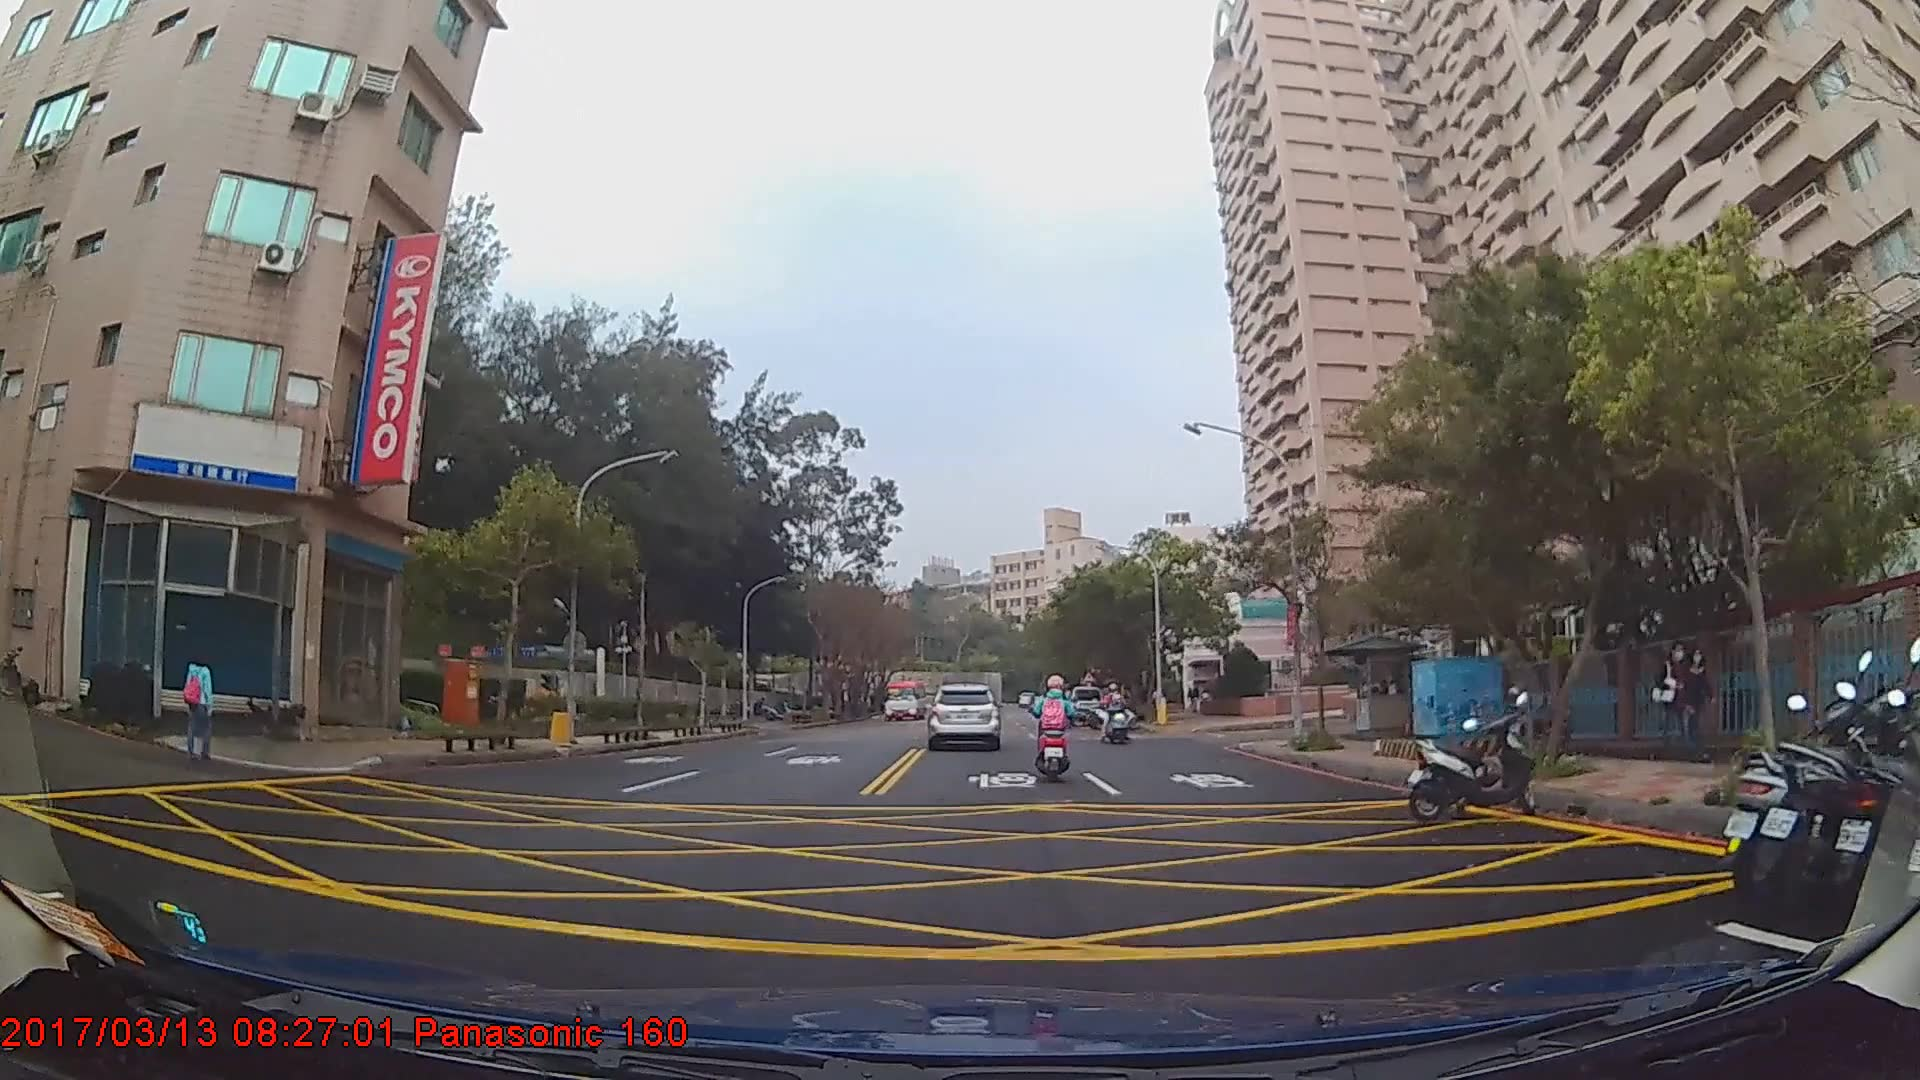pedestrian: (1651, 643, 1697, 766), (1676, 648, 1716, 768), (180, 643, 219, 764)
rider: (1030, 678, 1074, 789), (1100, 683, 1132, 741)
vehicle: (924, 680, 998, 745), (882, 677, 929, 721)
